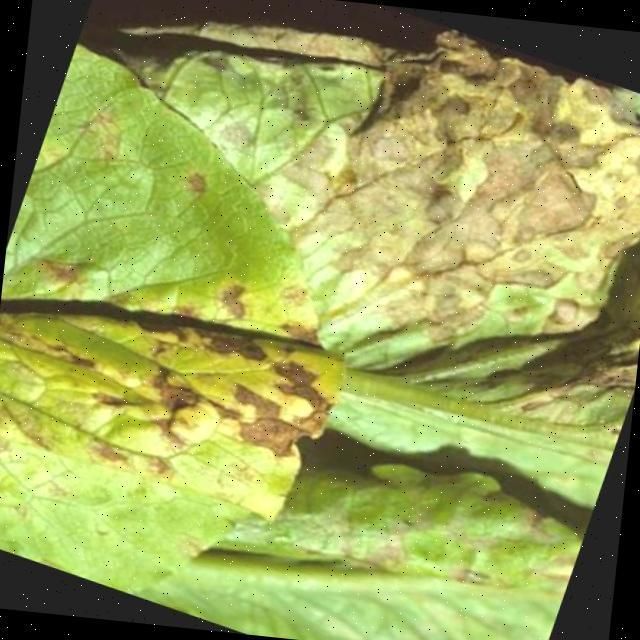Septoria_Blight: (0, 207, 348, 523)
